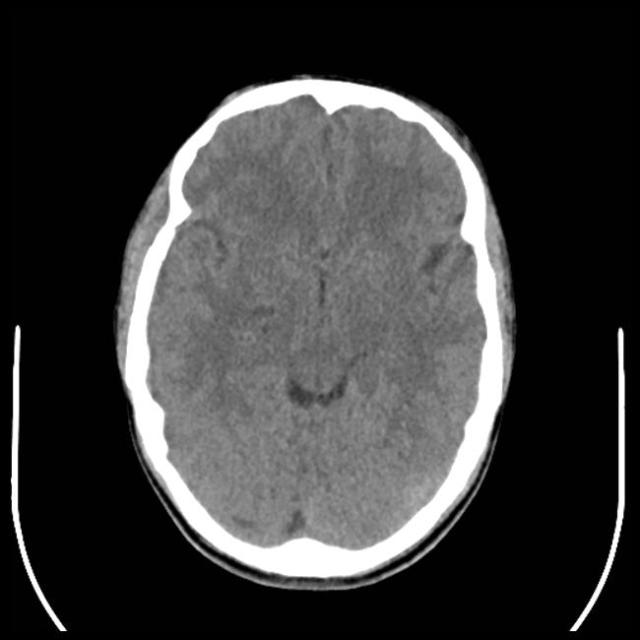lesion: (111, 74, 518, 586)
